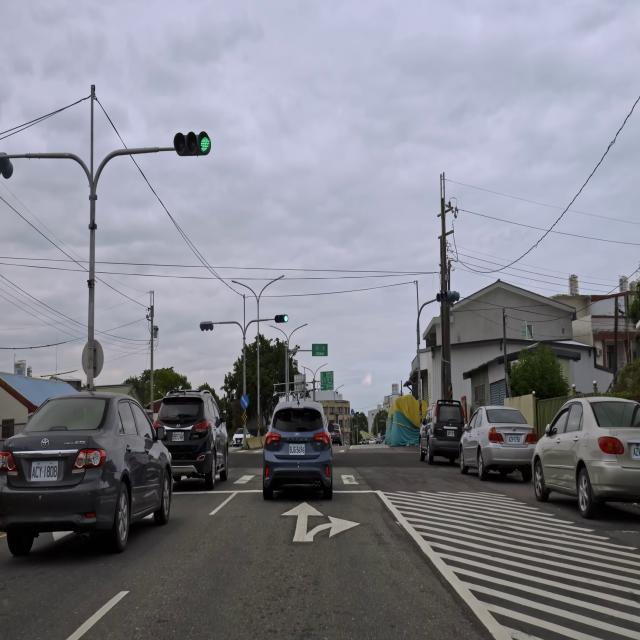green light: (172, 132, 210, 156), (274, 313, 288, 323)
